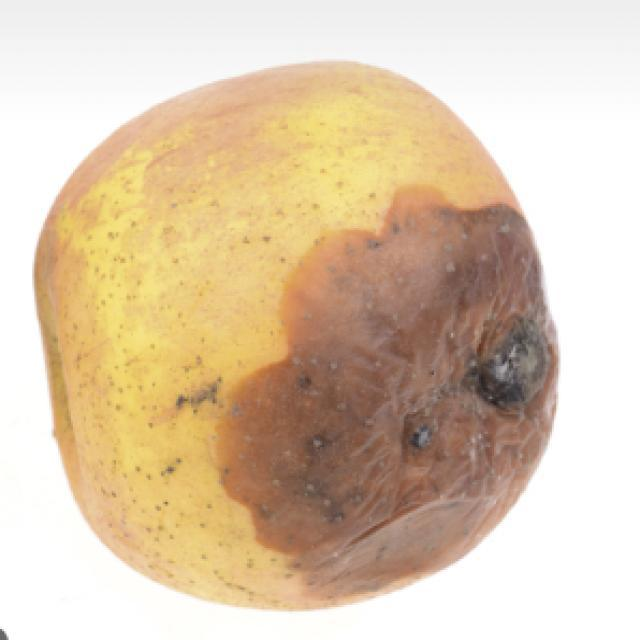Rotten: (67, 68, 548, 555)
